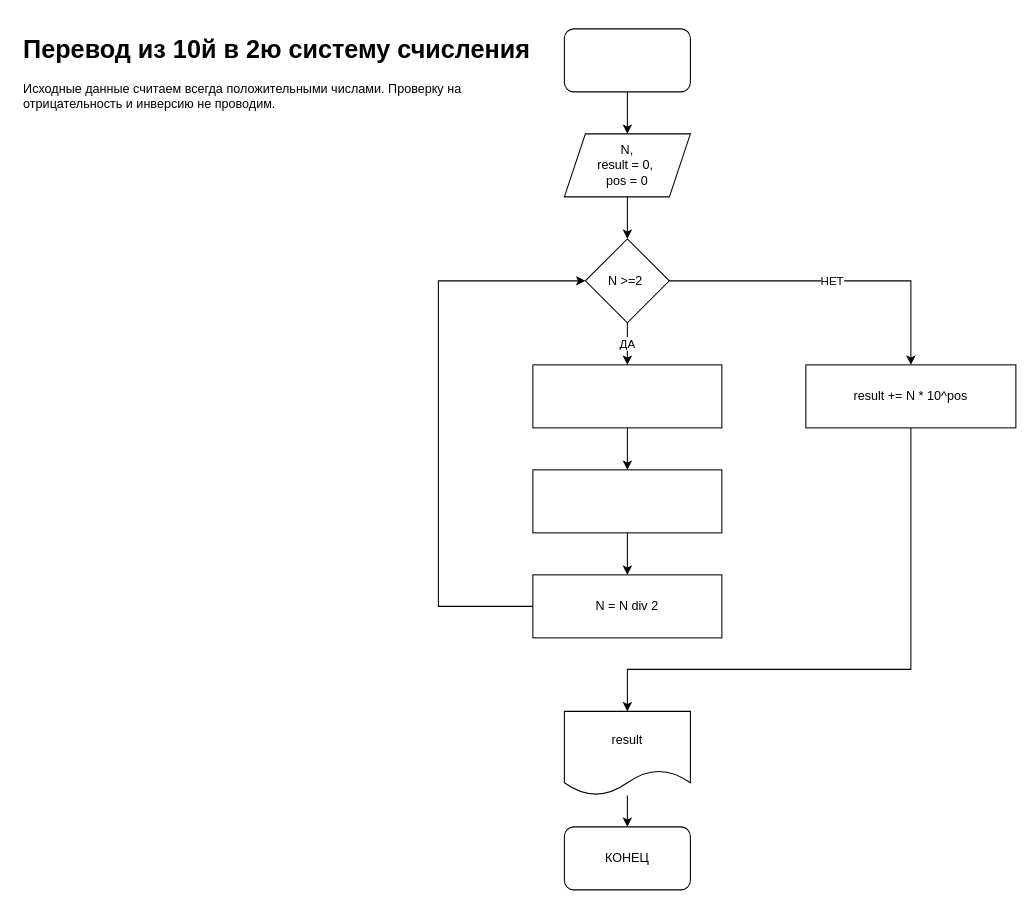
Image size: 1034x908. Some labels were removed from this diagram. Each missing label, with the box of its shape:
pos ++: (532, 469, 722, 533)
result += (N % 2) * 10^pos: (532, 364, 722, 428)
НАЧАЛО: (563, 28, 690, 92)
